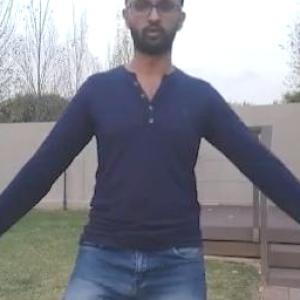land: (3, 0, 296, 299)
